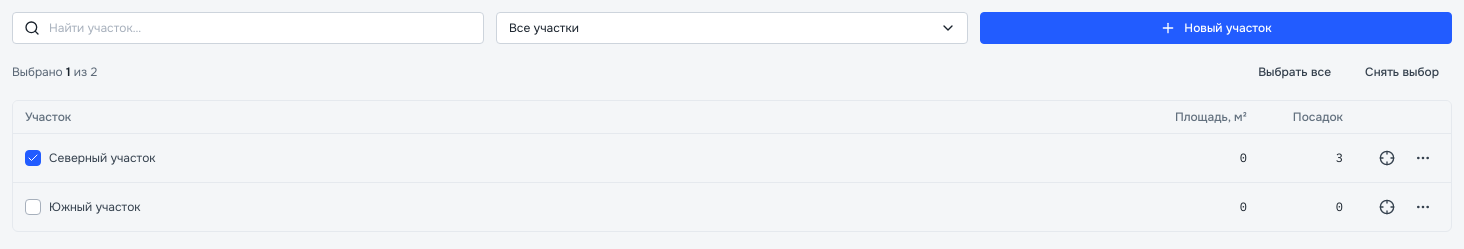
Scenario: PlantingZoneManager › filters selected and empty areas without changing the working selection
Select "Выбранные" in the dropdown named "Фильтр участков". click: {"x": 732, "y": 28}
box: [496, 12, 968, 44]
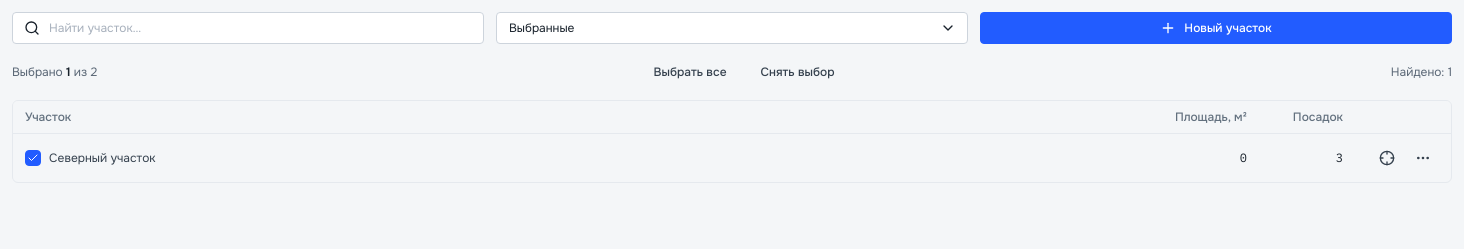
Check: the checkbox labelled "Северный участок" is checked, box [25, 150, 156, 166]
Check: the text "Южный участок" is gone
Select "Без посадок" in the dropdown named "Фильтр участков". click: {"x": 732, "y": 28}
box: [496, 12, 968, 44]
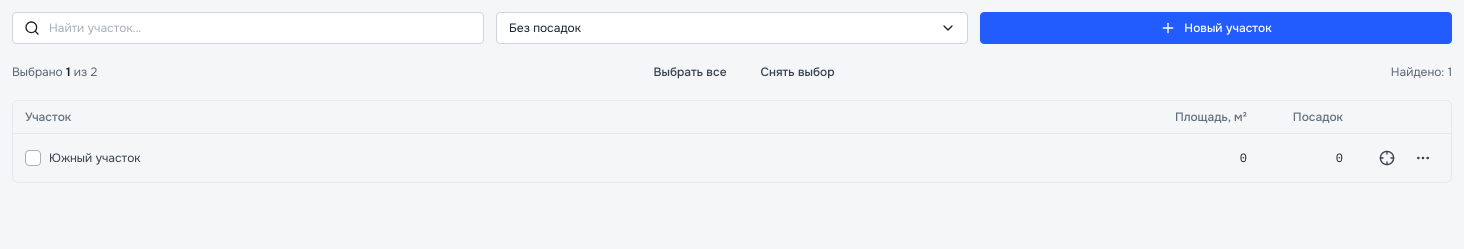
Check: the checkbox labelled "Южный участок" is not checked, box [25, 150, 141, 166]
Check: the text "Северный участок" is gone
